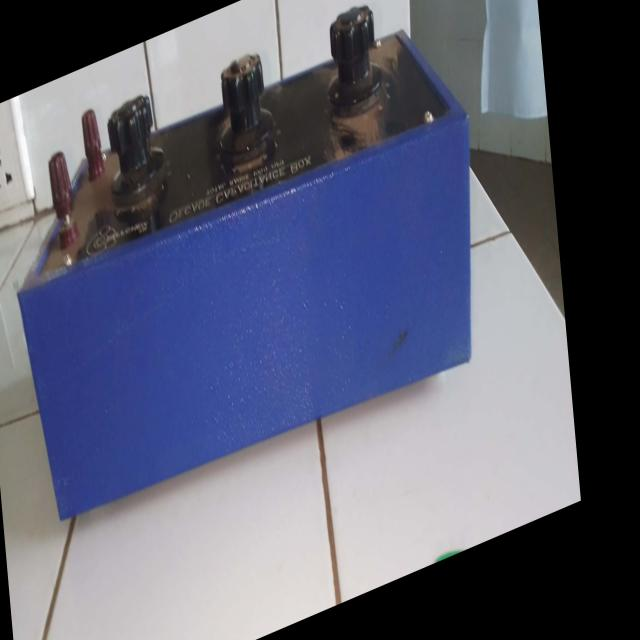Decade Capacitor Box: (0, 0, 494, 557)
